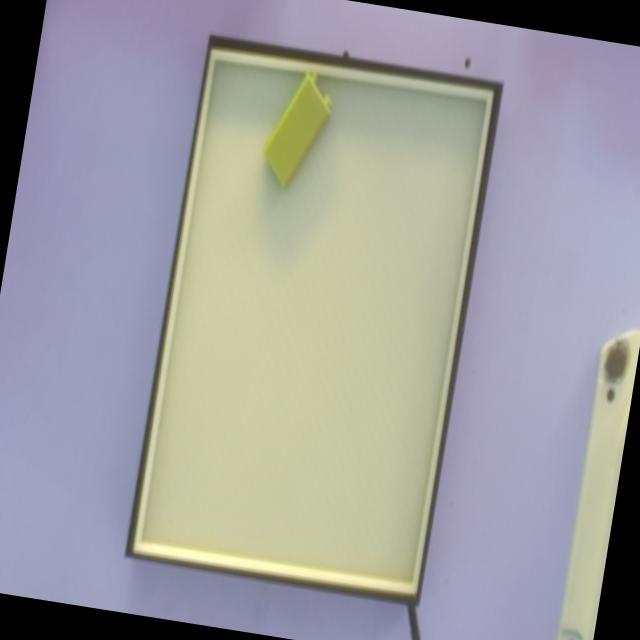bateria: (263, 71, 332, 191)
mesa: (125, 34, 503, 606)
